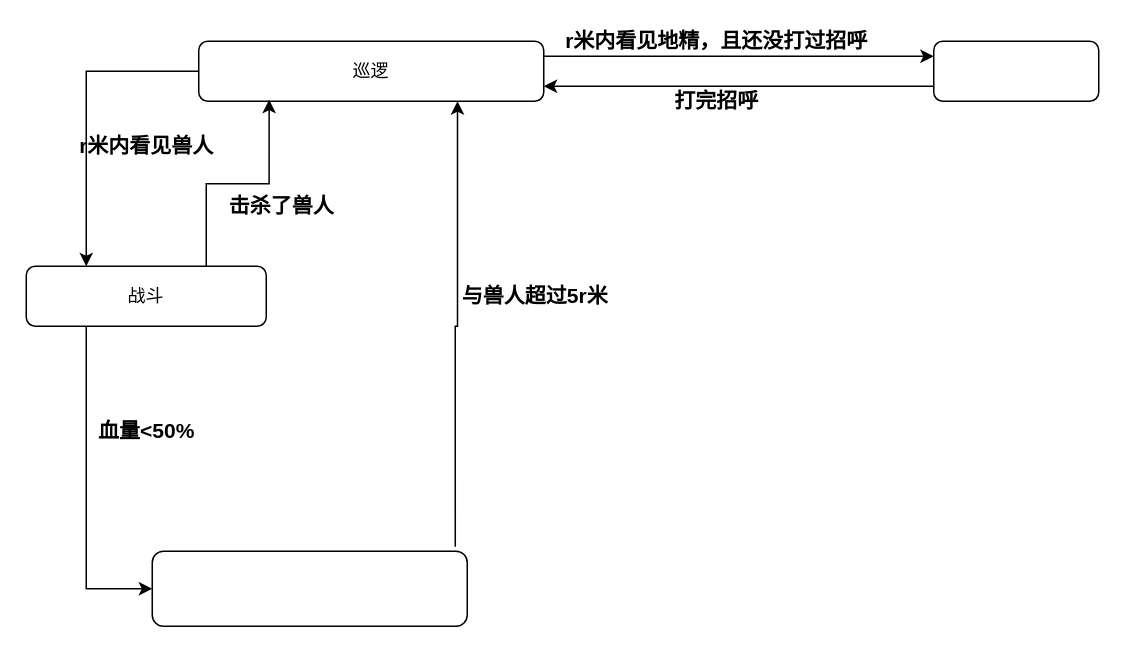
The diagram is 1125 pixels wide and 653 high, and some of its shapes have lost their labels. The shapes that lost their labels are listed below. From the top down, each one's centre as x and y in pixels, then its label:
At point 1015,70: "打招呼".
At point 309,588: "逃跑".
